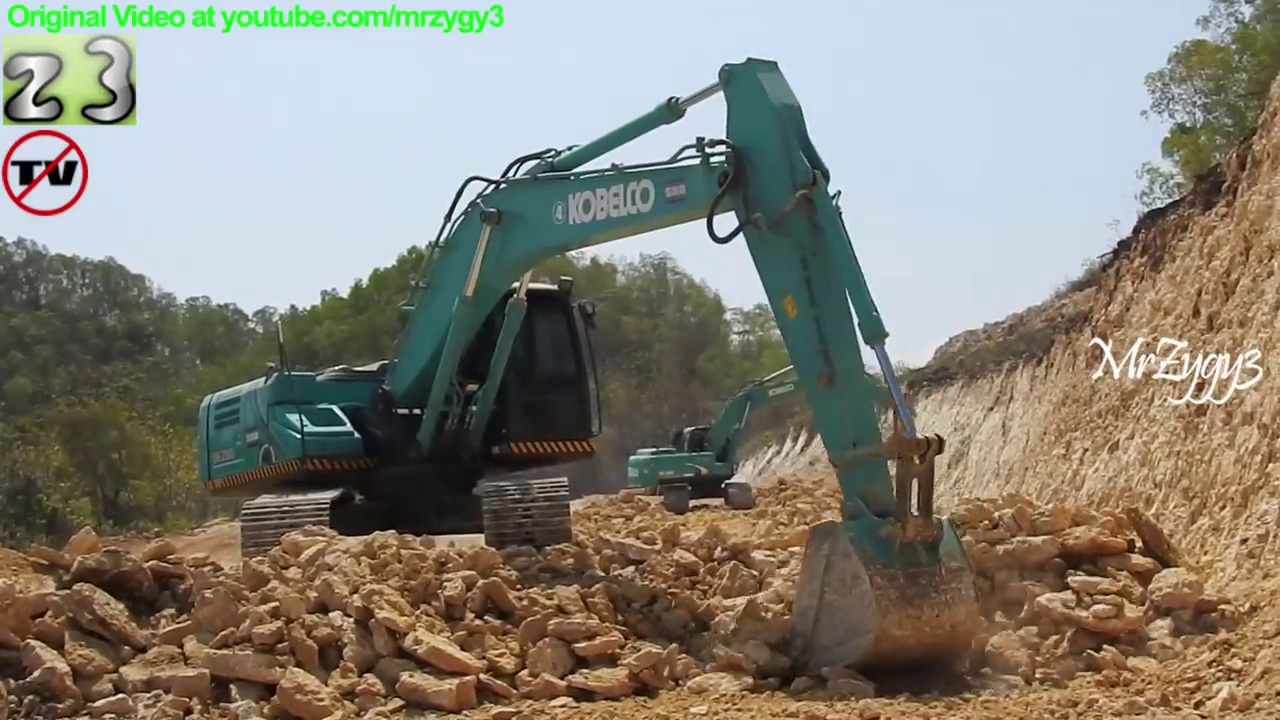excavator: (191, 51, 986, 688), (619, 345, 923, 516)
